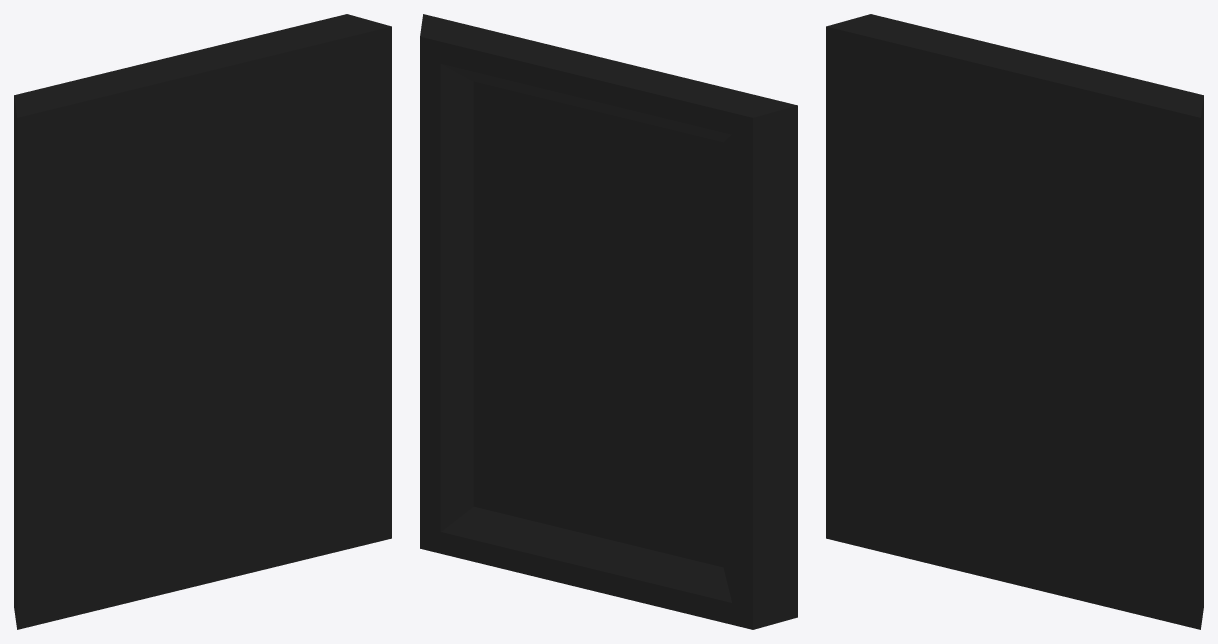
The model's file is tcg-card-counter.glb.
3 views of the same model, side by side, from view 1: azimuth 30°, elevation 25°; view 2: azimuth 150°, elevation 25°; view 3: azimuth 330°, elevation 25° (orthographic).
Visible parts, largest first — view 1: card-counter; view 2: card-counter; view 3: card-counter.
Boxes of the visible parts, x1,y1,x2,y2 form: card-counter: (14, 14, 391, 629); card-counter: (420, 14, 797, 629); card-counter: (826, 14, 1203, 629).
Size of the model in its own units: 0.45 by 0.5875 by 0.05.
1 material, 1 textured.
